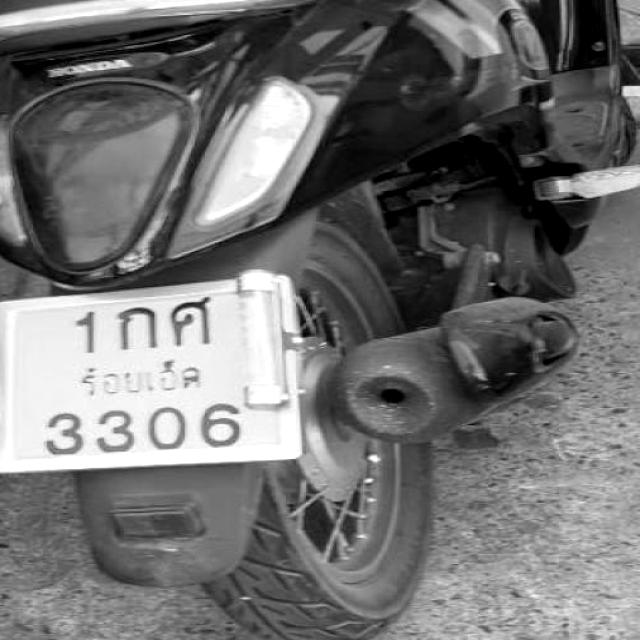letters: (200, 399, 250, 451), (112, 308, 166, 355), (141, 402, 191, 451), (39, 408, 87, 453), (171, 304, 222, 344), (89, 406, 131, 453), (70, 305, 98, 356)
license-plate: (0, 280, 300, 470)
province: (69, 365, 210, 398)
